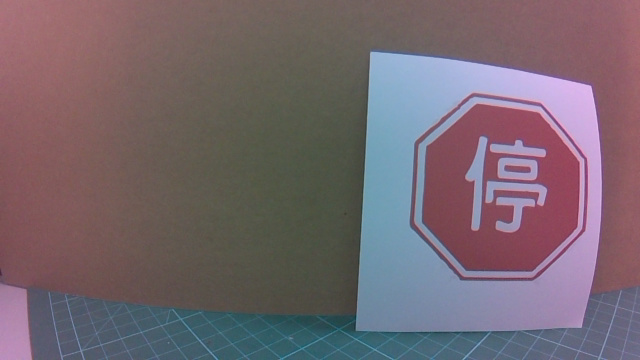stop: (423, 107, 594, 283)
